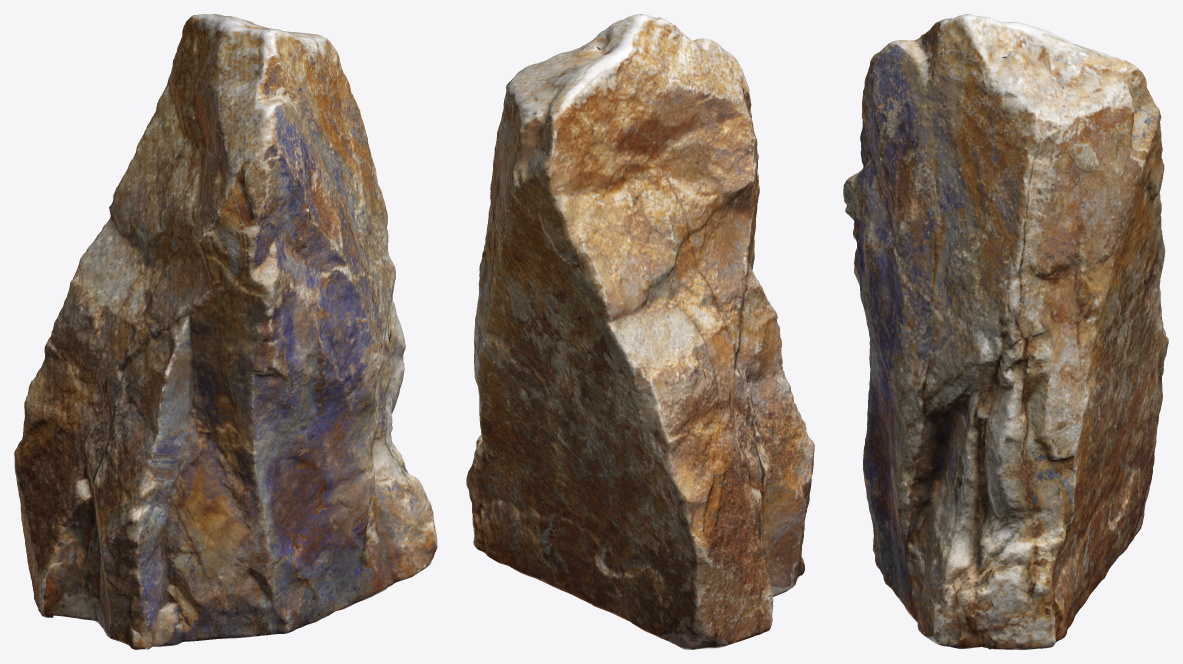
Rendered from sparse3.glb.
3 views of the same model, side by side, from view 1: azimuth 30°, elevation 25°; view 2: azimuth 150°, elevation 25°; view 3: azimuth 270°, elevation 25° (orthographic). The views are drawn at different scales.
Size of the model in its own units: 2.42 by 3.91 by 2.
Materials: 1 (1 with a texture image).
